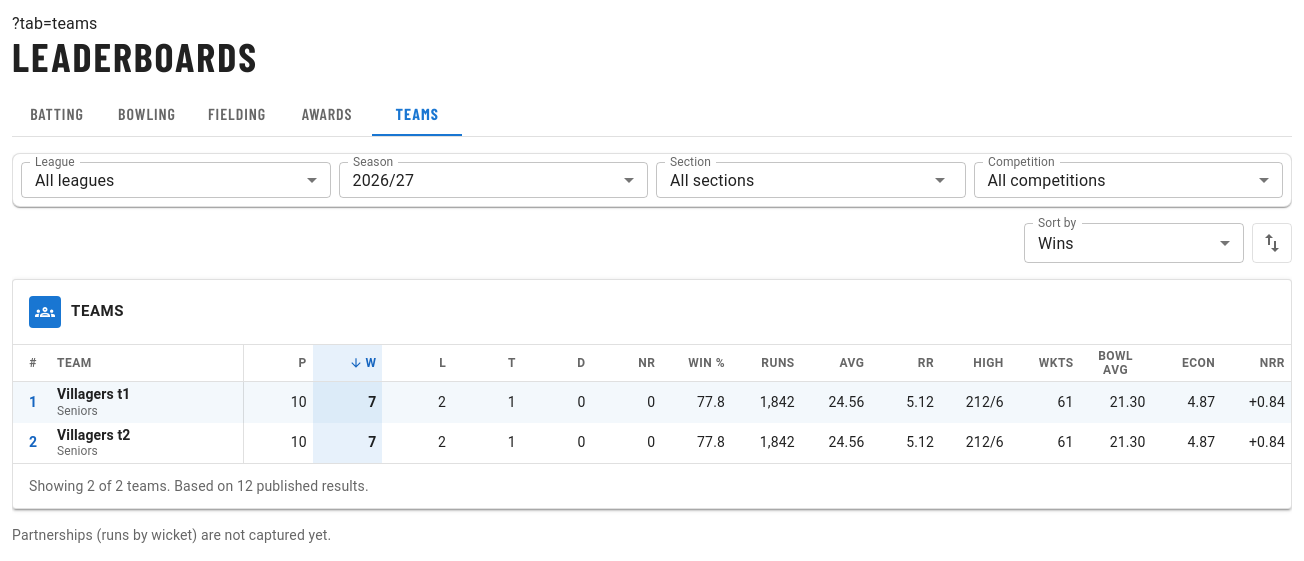
Teams tab › the tab › hides the Team select and shows Competition, offering only competitions that have counted results
Click the dropdown labelled "competition".
click(1047, 180)  # box [988,170,1106,190]
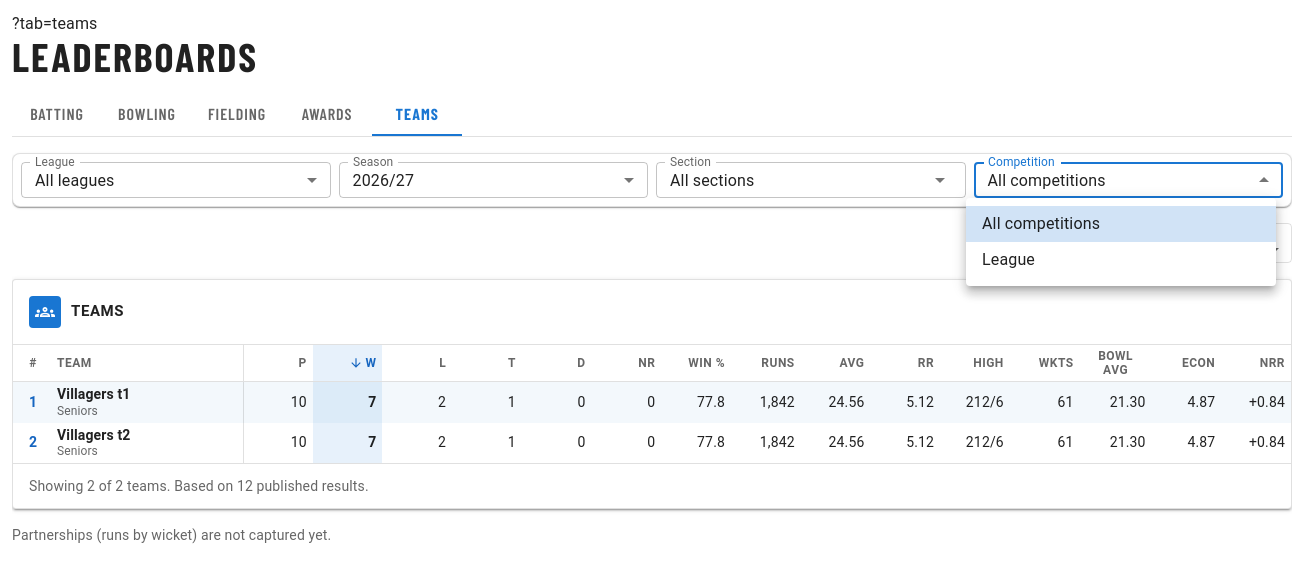
Result: the options read "All competitions", "League", in this order at [966,206,1276,242]; [982,250,1035,269]
